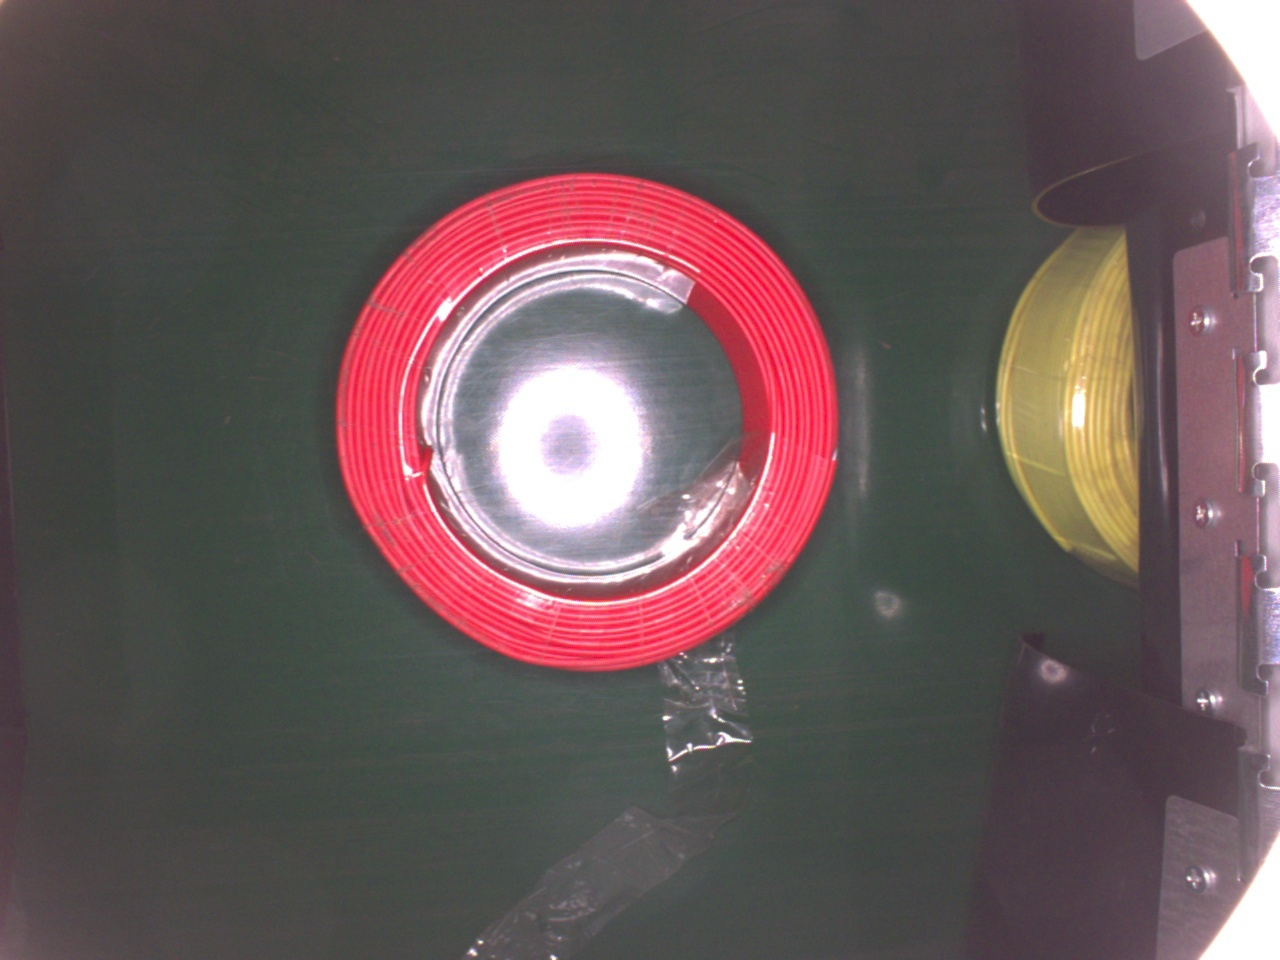red: (335, 171, 838, 671)
yellow: (991, 218, 1141, 592)
